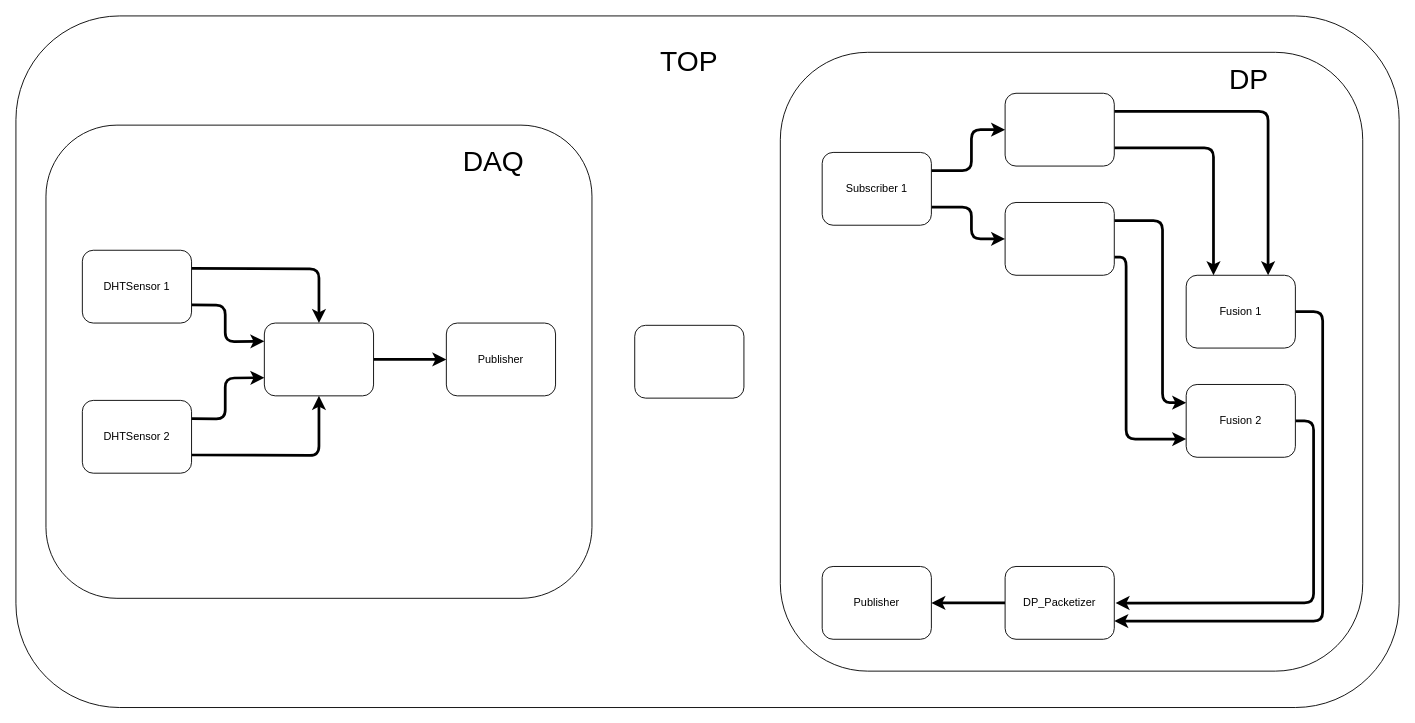
Image size: 1415x723. Some labels were removed from this diagram. The shapes that lost their labels are listed below. From the top down, each one's box as (x1, y1, x2, y2) in pixels, then its label:
(1004, 92, 1114, 166): DataParser 1
(1004, 202, 1114, 275): DataParser 2
(263, 322, 374, 396): DAQ_Packetizer
(634, 324, 744, 398): NETWORK
